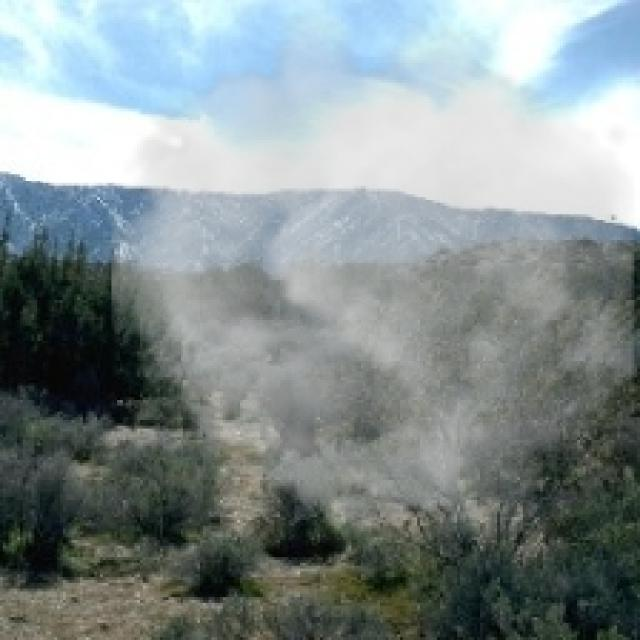smoke: (111, 8, 634, 563)
